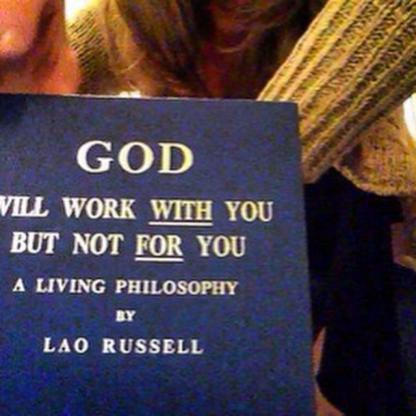book: (0, 78, 338, 415)
